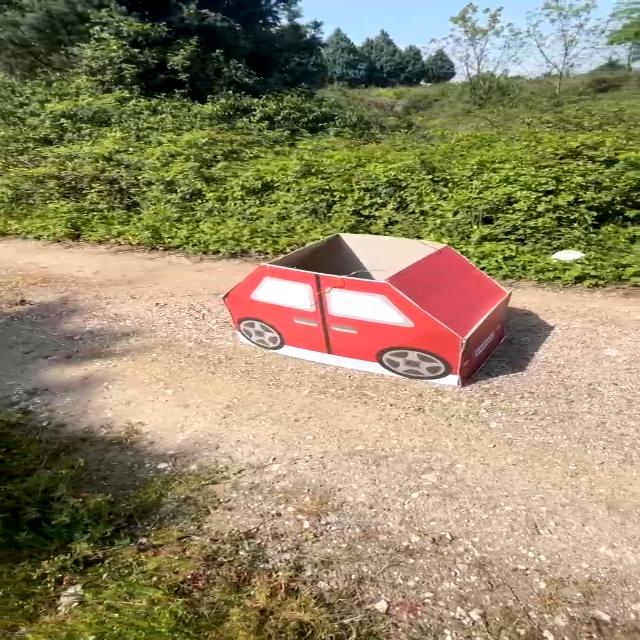red_car: (213, 219, 530, 396)
